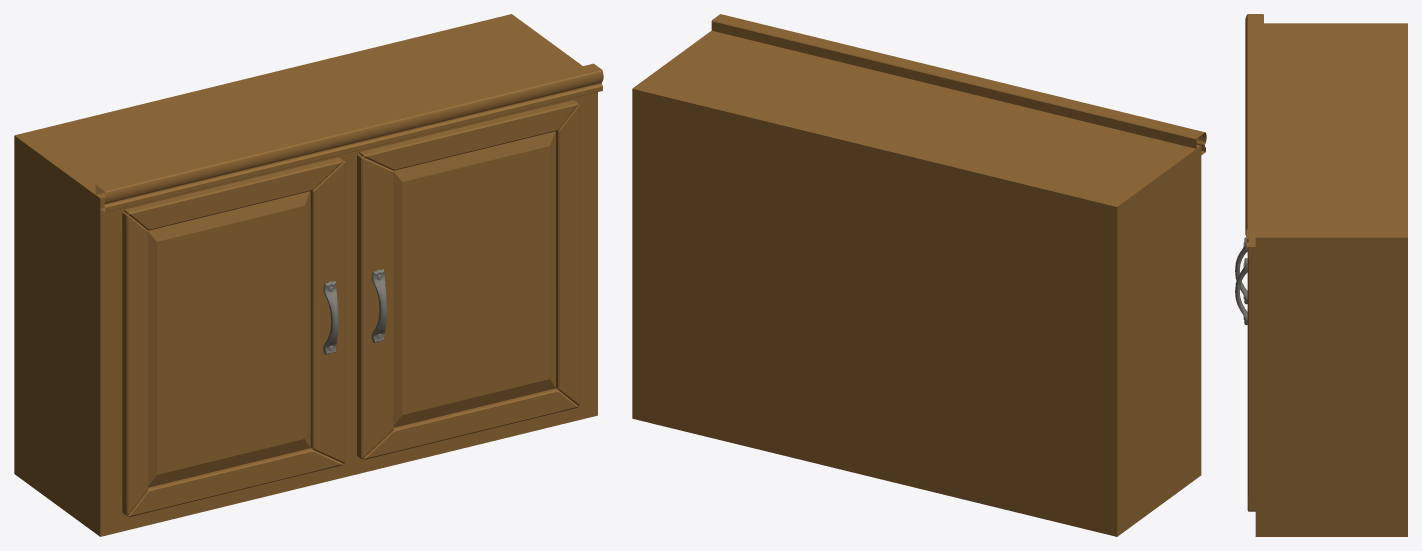
The model's file is Cabinet_2_5M.fbx.
3 views of the same model, side by side, from view 1: azimuth 30°, elevation 25°; view 2: azimuth 150°, elevation 25°; view 3: azimuth 270°, elevation 25° (orthographic). The views are drawn at different scales.
Parts seen in each view (by area): view 1: Cabinet_2_5M; view 2: Cabinet_2_5M; view 3: Cabinet_2_5M.
Part boxes in pixels (x1,y1,x2,y2): Cabinet_2_5M: (14, 14, 603, 536); Cabinet_2_5M: (632, 14, 1206, 536); Cabinet_2_5M: (1235, 14, 1407, 536).
Bounding box in the file's own units: 2.5 × 1.68 × 0.8505.
